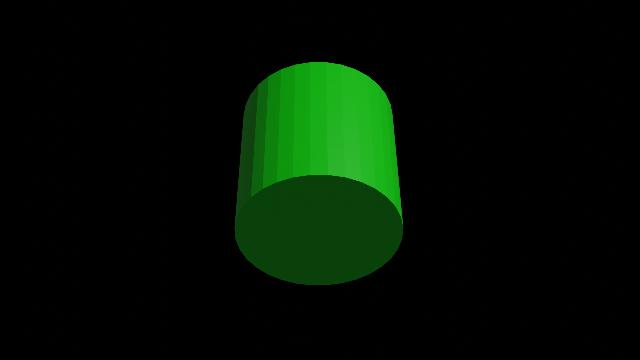Cylinder: (214, 56, 433, 300)
